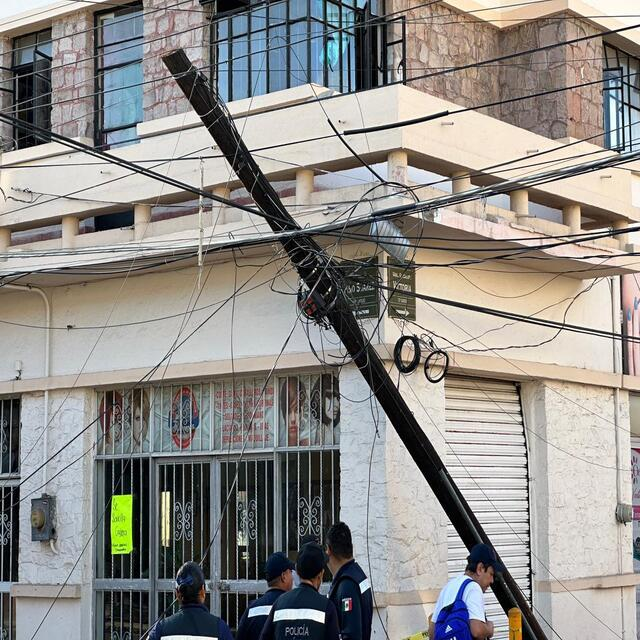Inclined Pole: (156, 48, 551, 638)
